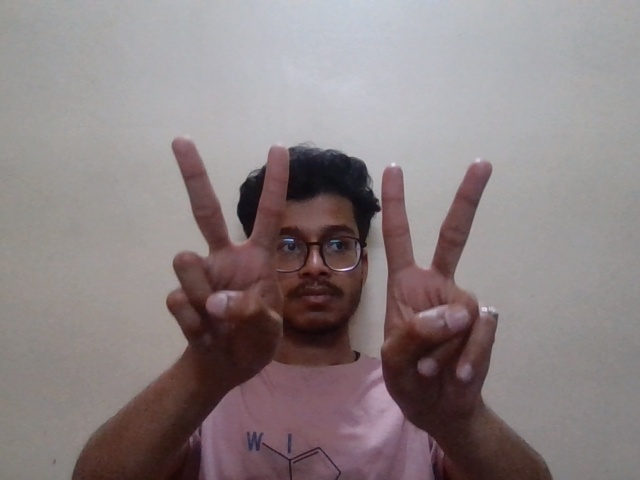take-care: (153, 119, 518, 408)
